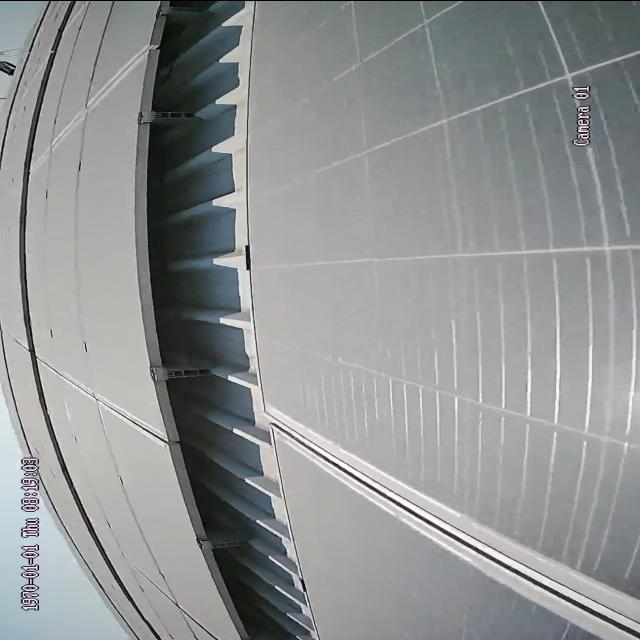interior panel: (293, 423, 639, 639), (40, 45, 138, 169), (44, 353, 152, 443)
outher panel: (125, 6, 321, 639)
